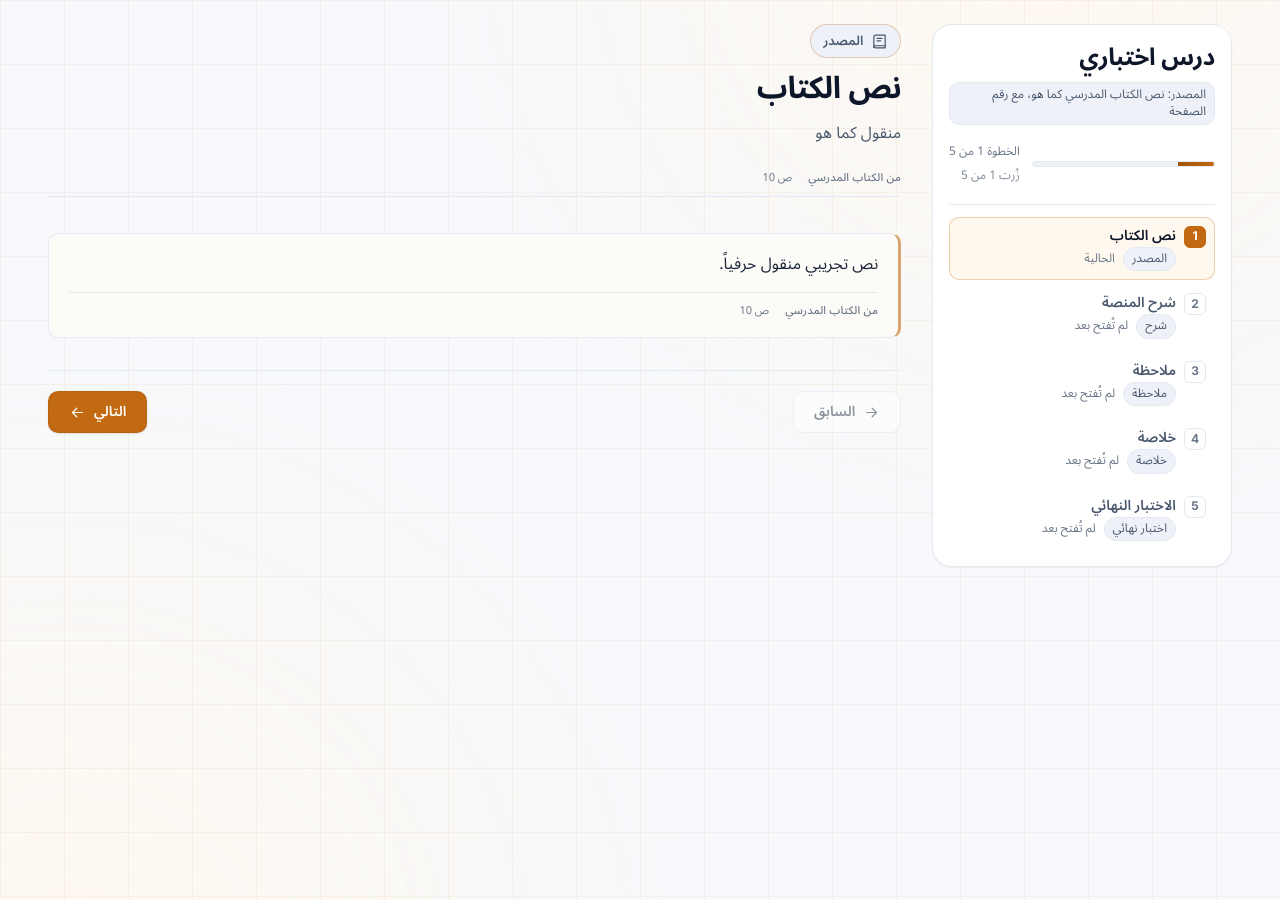
Test: LessonFlow — one meaningful step at a time › jumps to a step selected from the outline
The image size is (1280, 900).
Click the button "4 خلاصة خلاصة لم تُفتح بعد": {"x": 1082, "y": 451} [949,419,1215,483]
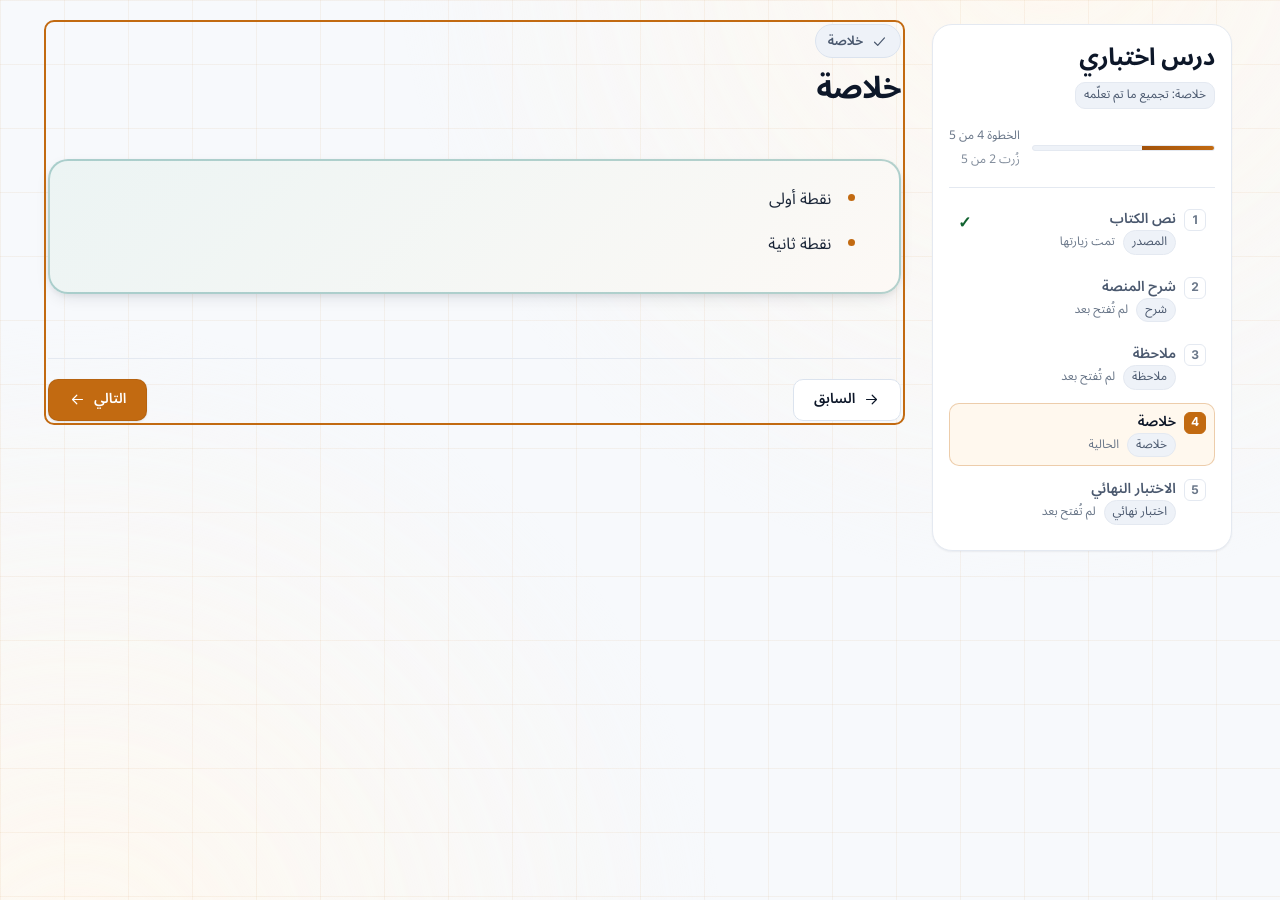
expect the text "نقطة أولى" is shown: met, box [769,182,831,216]
